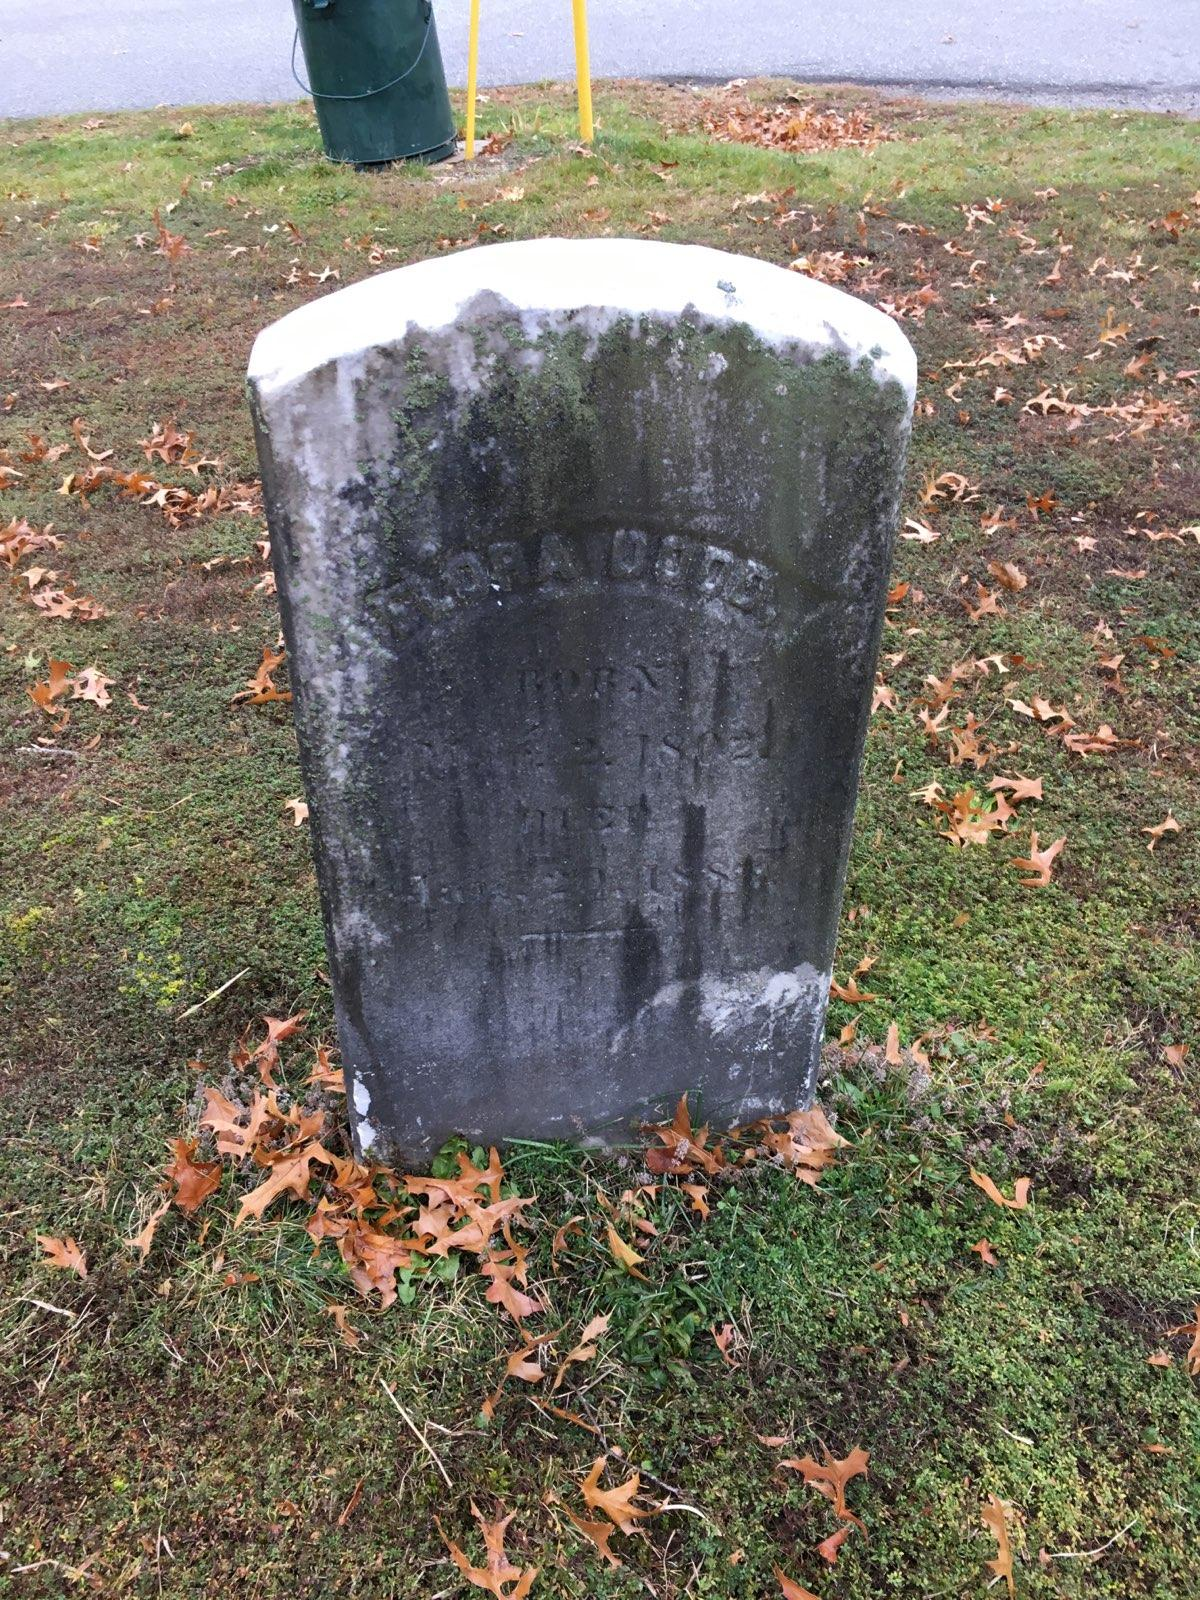upright: (245, 233, 923, 1170)
